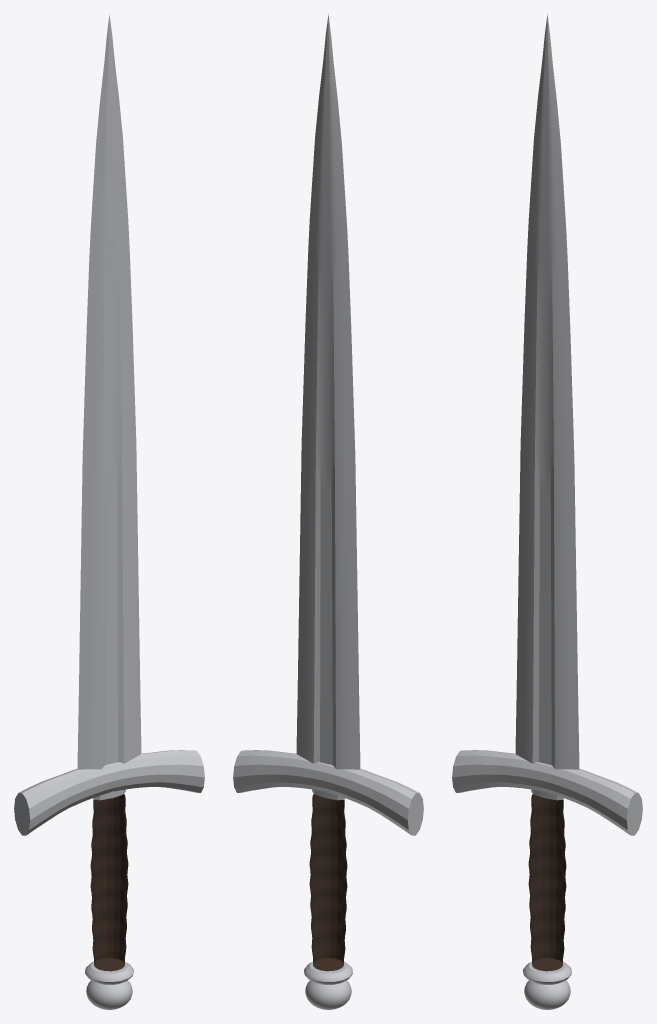
Rendered from human_weapon_shortsword_v1.fbx.
The picture shows the model from 3 angles, left to right: view 1: azimuth 30°, elevation 25°; view 2: azimuth 150°, elevation 25°; view 3: azimuth 330°, elevation 25°; orthographic projection.
Visible parts, largest first — view 1: human_weapon_shortsword_v1; view 2: human_weapon_shortsword_v1; view 3: human_weapon_shortsword_v1.
Part boxes in pixels (bbox=[...]): human_weapon_shortsword_v1: bbox=[14, 14, 204, 1009]; human_weapon_shortsword_v1: bbox=[233, 14, 423, 1009]; human_weapon_shortsword_v1: bbox=[452, 14, 642, 1009].
Size of the model in its own units: 0.13 by 0.7063 by 0.032.
